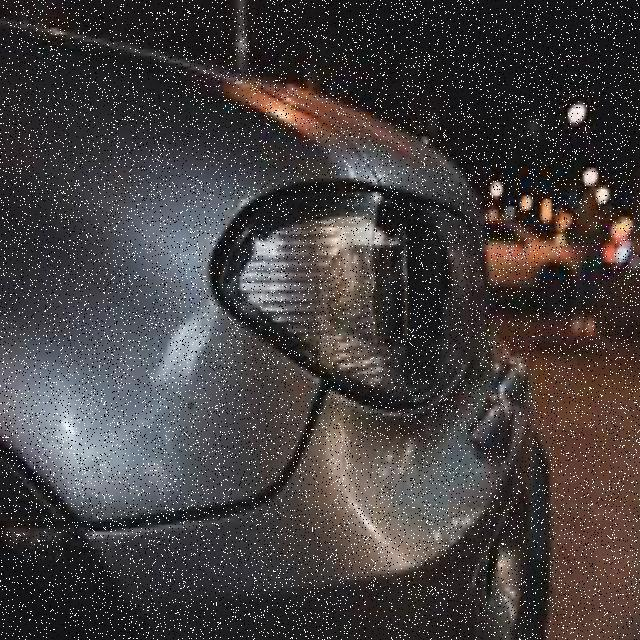Headlight-Damage: (201, 157, 494, 430)
